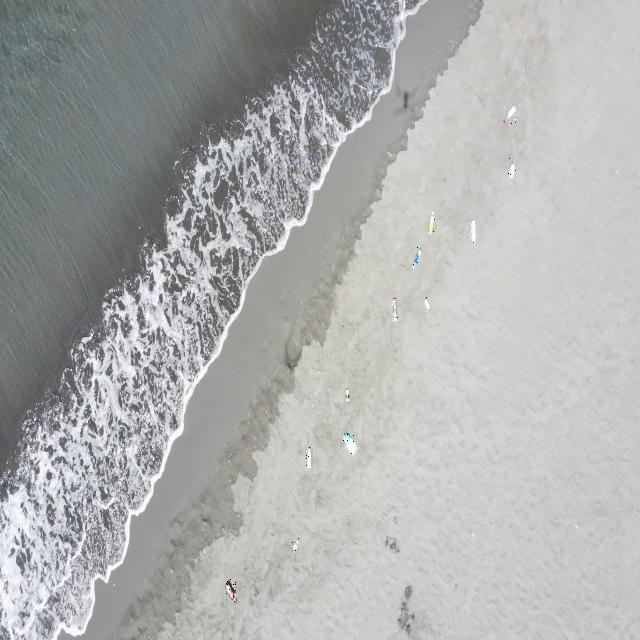Garbage: (224, 579, 236, 600), (343, 432, 355, 453), (503, 104, 515, 123), (412, 247, 420, 267), (428, 212, 435, 232), (507, 161, 515, 178), (470, 219, 475, 243), (392, 296, 396, 320), (292, 537, 298, 551), (306, 446, 310, 467), (424, 296, 430, 308), (344, 387, 347, 402)
